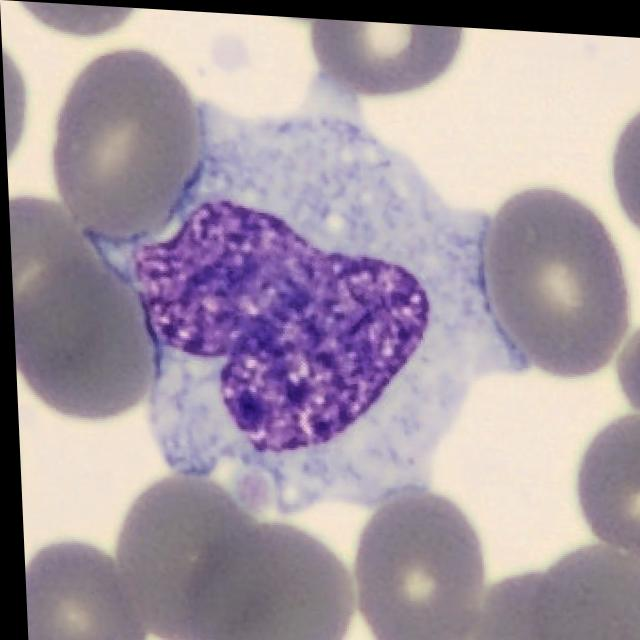Linfocito atipico: (87, 79, 523, 507)
